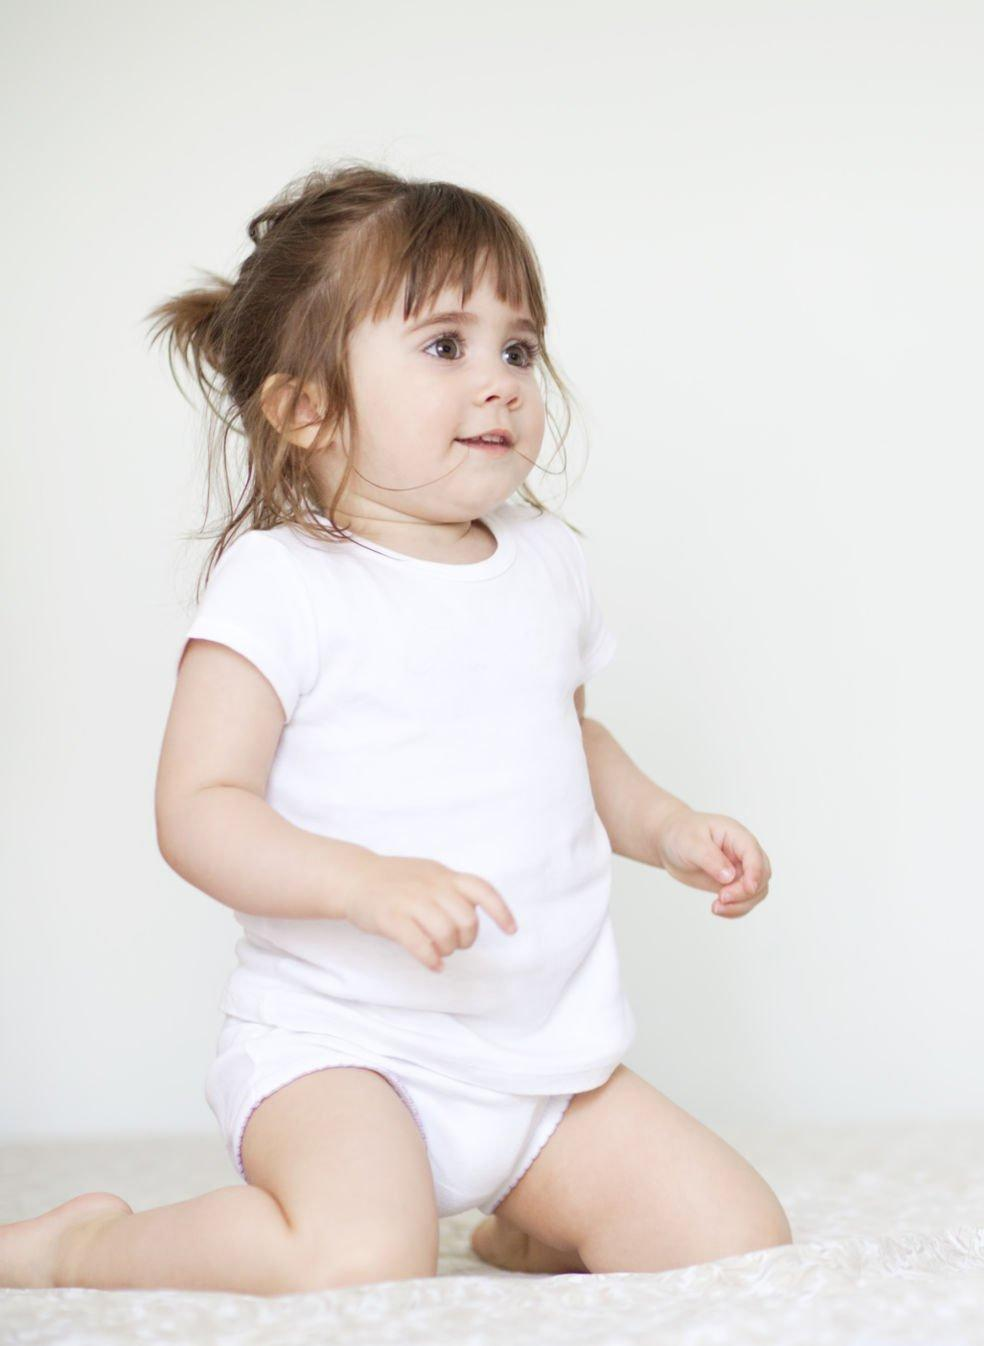Healthy: (277, 177, 579, 516)
